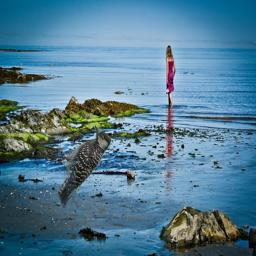Woodpecker: (57, 121, 111, 208)
